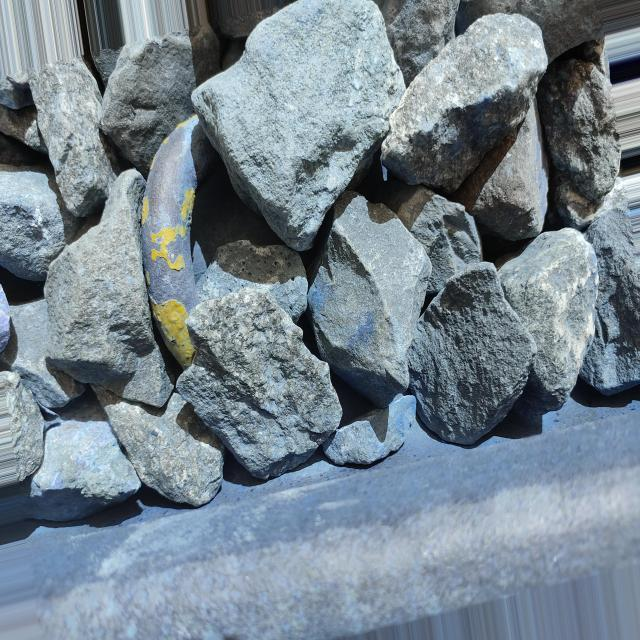Good Fasteners: (142, 116, 199, 369)
